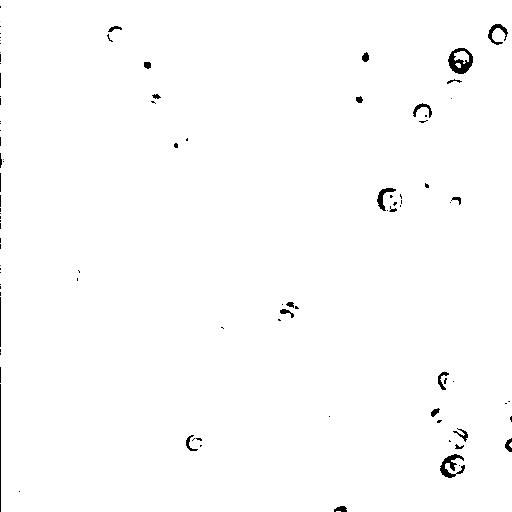micro-algae: (383, 27, 461, 102), (432, 440, 511, 511), (7, 219, 75, 287), (432, 29, 495, 93), (139, 0, 223, 43), (313, 217, 357, 260), (1, 471, 45, 512), (1, 55, 37, 100), (125, 144, 161, 180), (373, 13, 407, 51), (81, 255, 113, 287), (349, 38, 379, 71), (374, 185, 403, 215), (131, 45, 157, 75), (117, 337, 147, 363), (413, 169, 439, 196), (448, 47, 473, 75), (442, 78, 469, 103), (1, 143, 23, 173), (168, 127, 193, 153), (274, 303, 303, 325), (443, 426, 469, 450), (200, 405, 227, 428), (439, 455, 465, 478), (14, 1, 56, 13), (413, 101, 434, 125), (60, 266, 81, 290), (495, 401, 512, 430), (349, 87, 369, 111), (488, 22, 507, 46), (106, 23, 124, 43), (184, 435, 203, 453), (437, 371, 455, 390), (430, 405, 447, 425), (447, 195, 464, 210), (99, 503, 126, 511), (329, 501, 350, 511), (504, 435, 512, 452)
